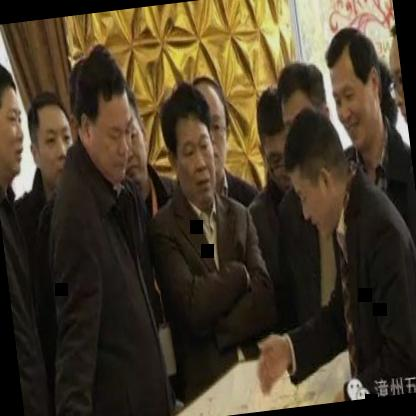head: (65, 42, 141, 190), (279, 94, 355, 232), (321, 16, 394, 152), (158, 85, 226, 210), (22, 86, 80, 185), (113, 80, 158, 202), (250, 86, 297, 192), (194, 69, 236, 180), (274, 54, 330, 137), (376, 8, 410, 144), (0, 55, 35, 186)
